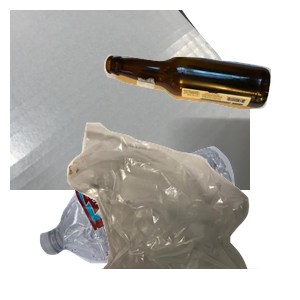cardboard: (10, 10, 250, 190)
glass: (101, 52, 300, 154)
plastic: (37, 144, 265, 300)
trash: (65, 120, 300, 300)
